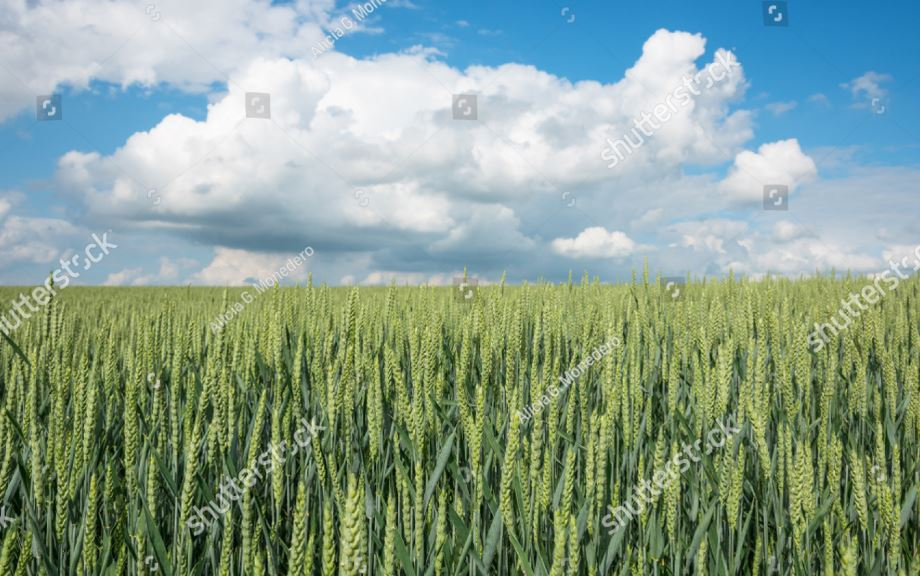Wheat: (54, 299, 887, 557)
